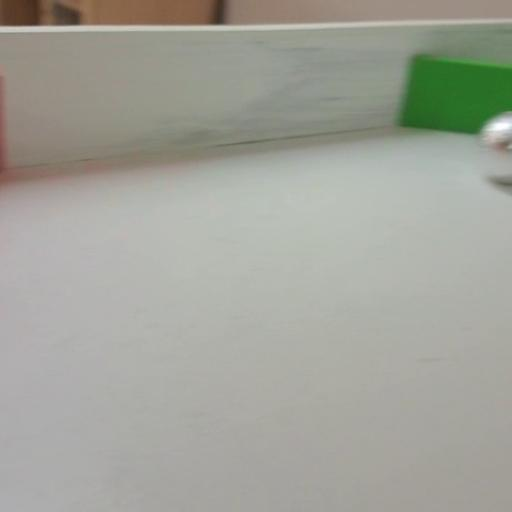alive: (478, 110, 512, 186)
